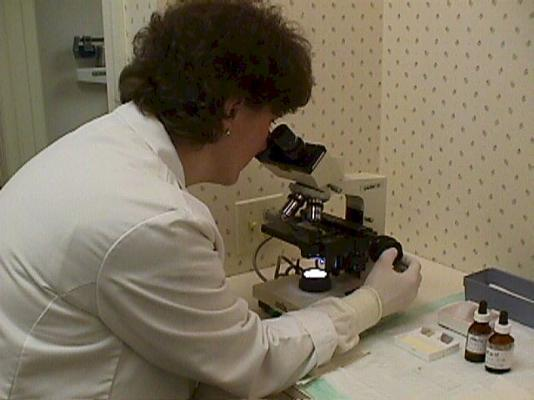person: (3, 3, 423, 398)
